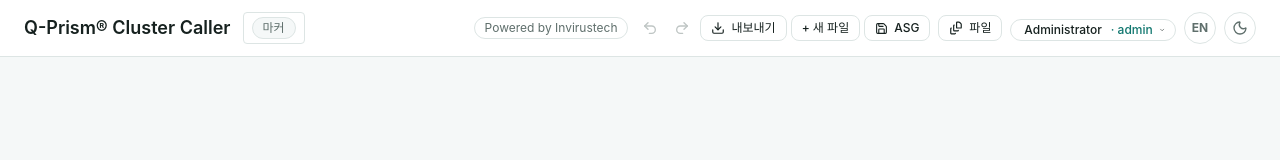
Test: folds name, role and logout into one user menu so the header keeps a single row
Expected: the button "로그아웃" is not shown
Click the button "Administrator · admin" at (1093,30), box [1010, 18, 1176, 40]
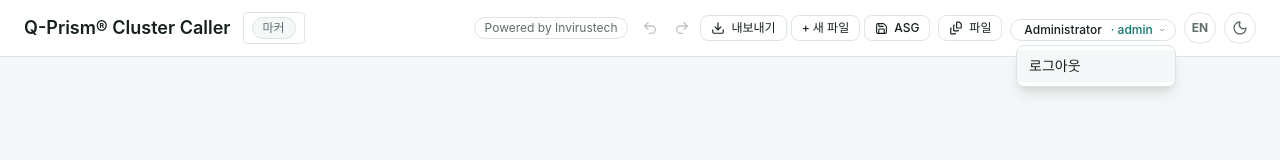
Result: the menu item "로그아웃" is shown at [1017, 50, 1175, 82]
